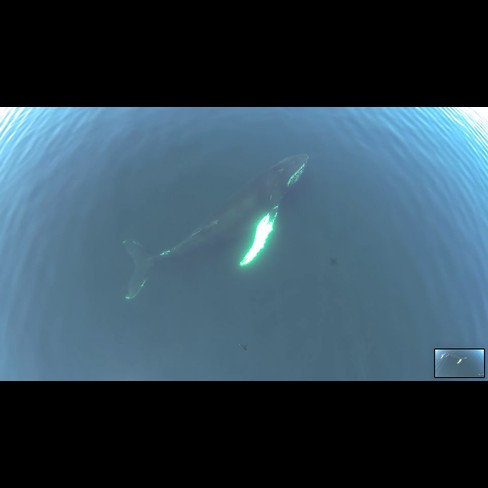hump: (112, 144, 318, 311)
